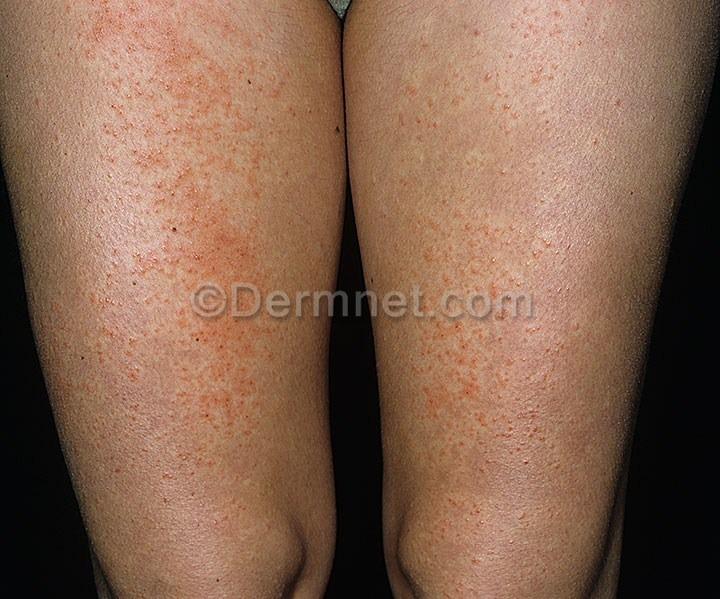Melasma: (53, 5, 298, 275), (85, 319, 264, 450), (441, 0, 592, 152), (405, 319, 575, 448), (365, 201, 568, 291)
